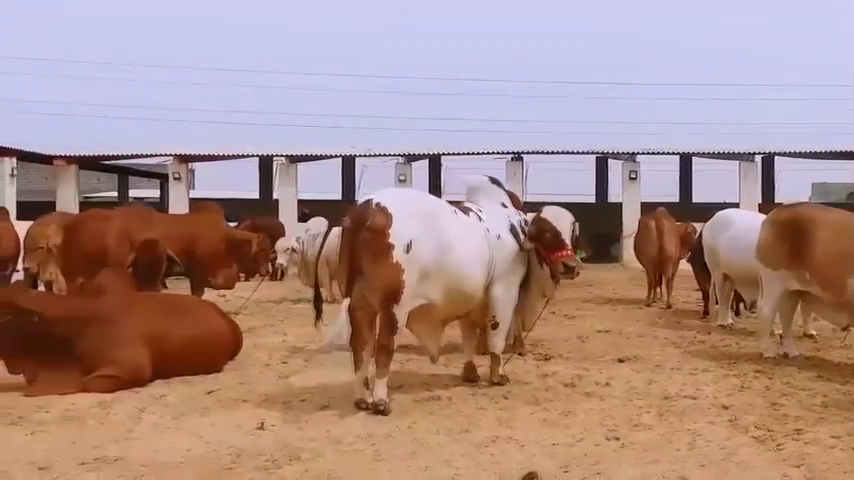bo: (302, 168, 588, 417), (2, 272, 257, 403), (684, 195, 830, 342), (127, 173, 274, 312), (752, 199, 847, 365), (66, 201, 171, 309), (10, 180, 89, 313), (620, 186, 696, 316), (263, 206, 348, 316)
